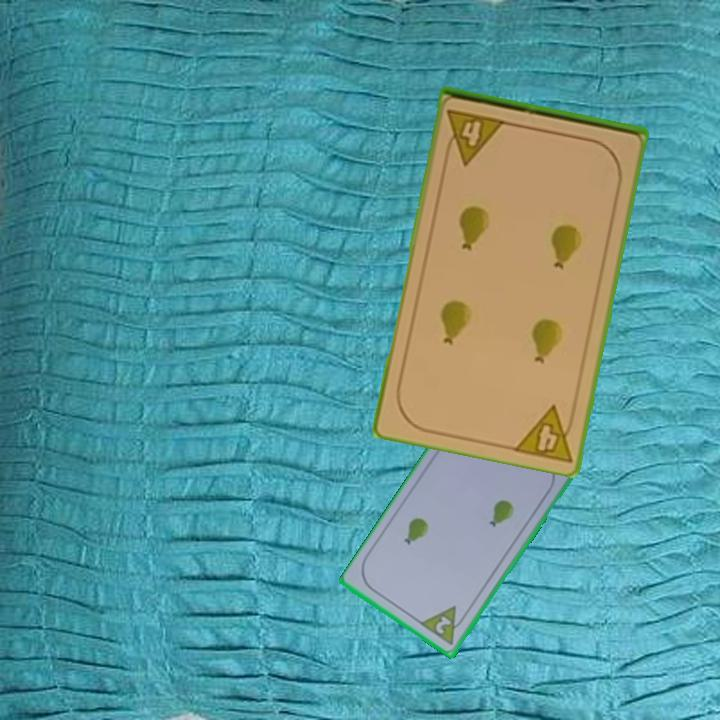2p: (417, 602, 470, 649)
4p: (510, 401, 580, 465), (441, 106, 509, 167)
